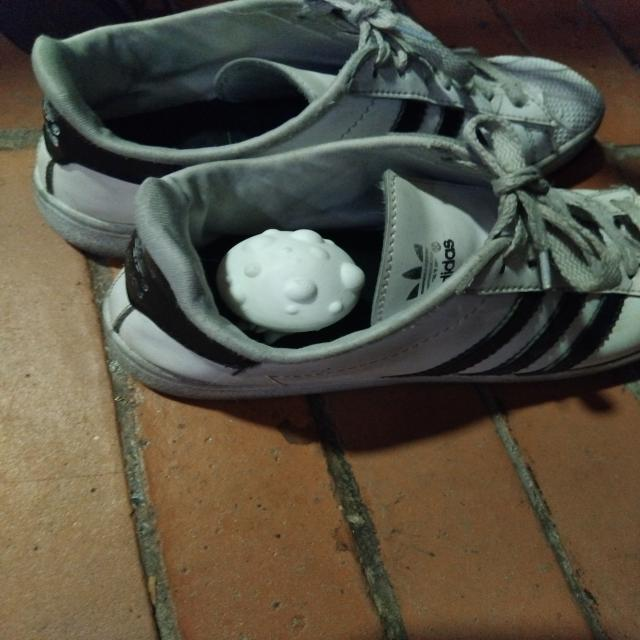Hongo: (205, 226, 377, 340)
